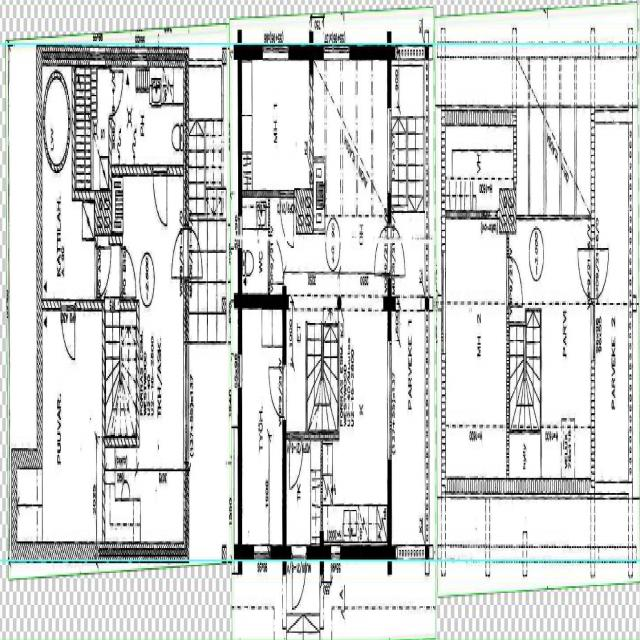door: (292, 544, 306, 612), (269, 366, 287, 416), (577, 249, 595, 299), (61, 299, 75, 363), (184, 228, 202, 276), (171, 228, 189, 276), (153, 166, 167, 227), (591, 249, 608, 299), (280, 188, 294, 248), (375, 226, 392, 274), (289, 432, 303, 490), (120, 247, 136, 296), (388, 226, 404, 274), (95, 247, 110, 296), (507, 257, 522, 306), (268, 235, 283, 283), (109, 71, 123, 114)
